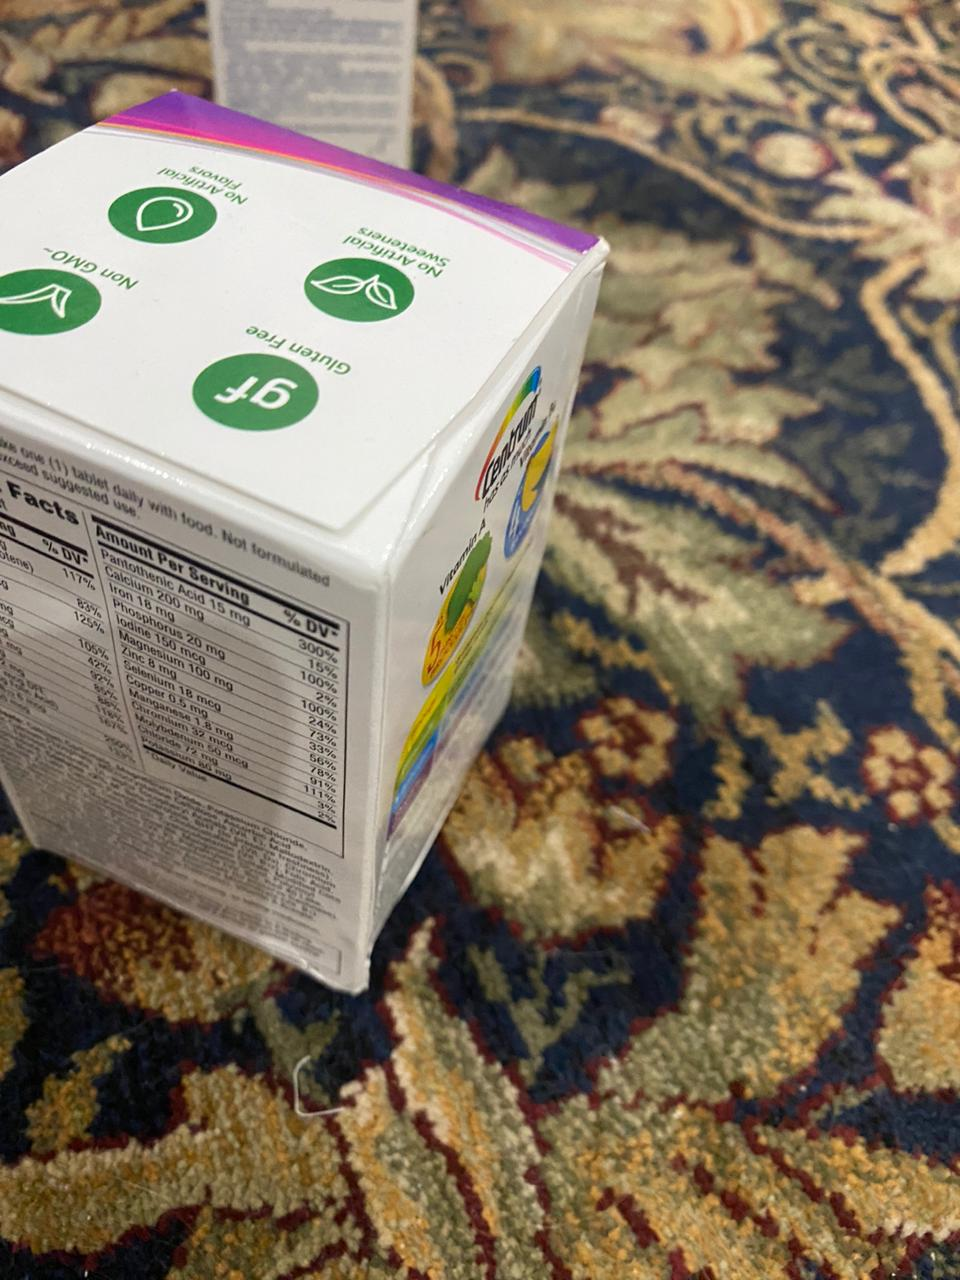Centrum: (14, 83, 606, 1004)
Physiomer: (201, 4, 417, 174)
